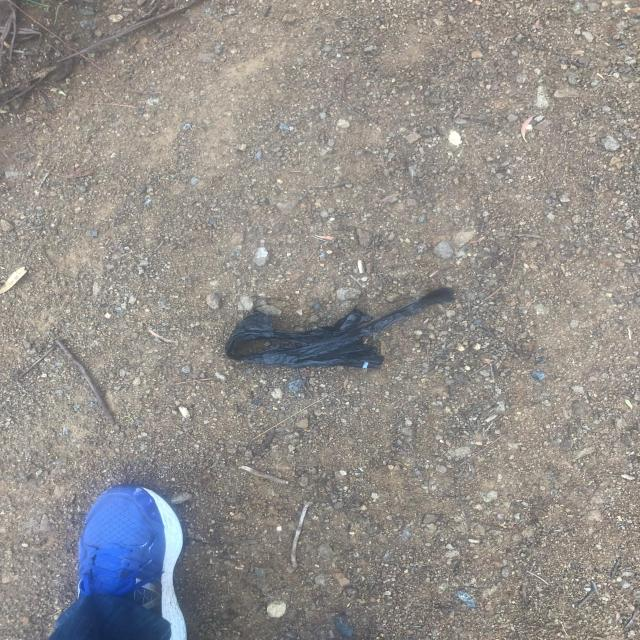litter: (383, 137, 491, 311)
